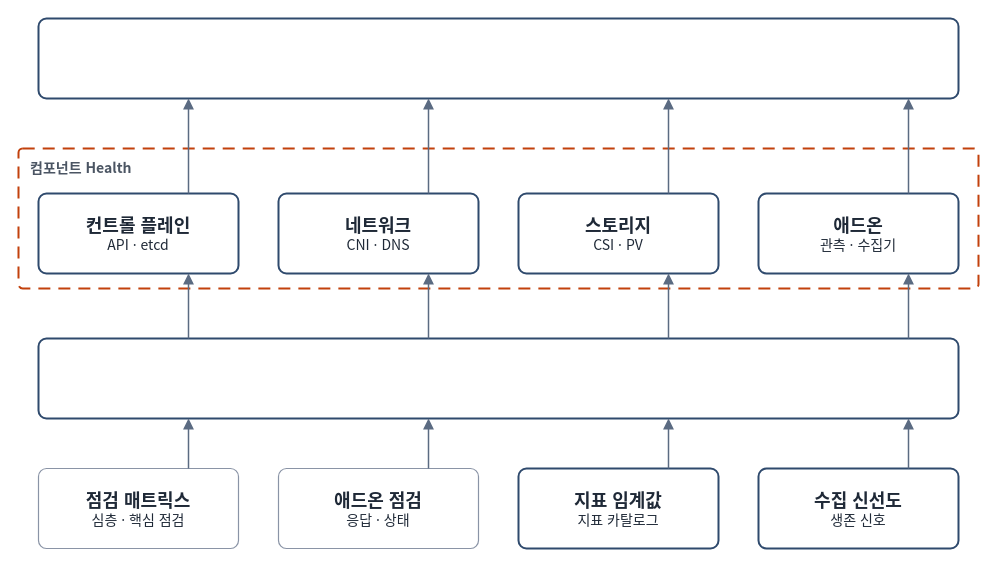
The diagram is 996 pixels wide and 566 high, and some of its shapes have lost their labels. Here are the shapes that lost their labels. From the top down, the centre of each, then its label:
At (x=498, y=58): "클러스터 종합 상태 위험 > 경고 > 정상".
At (x=498, y=378): "Health 규칙 임계값 · 지속 시간 미확인 처리".
